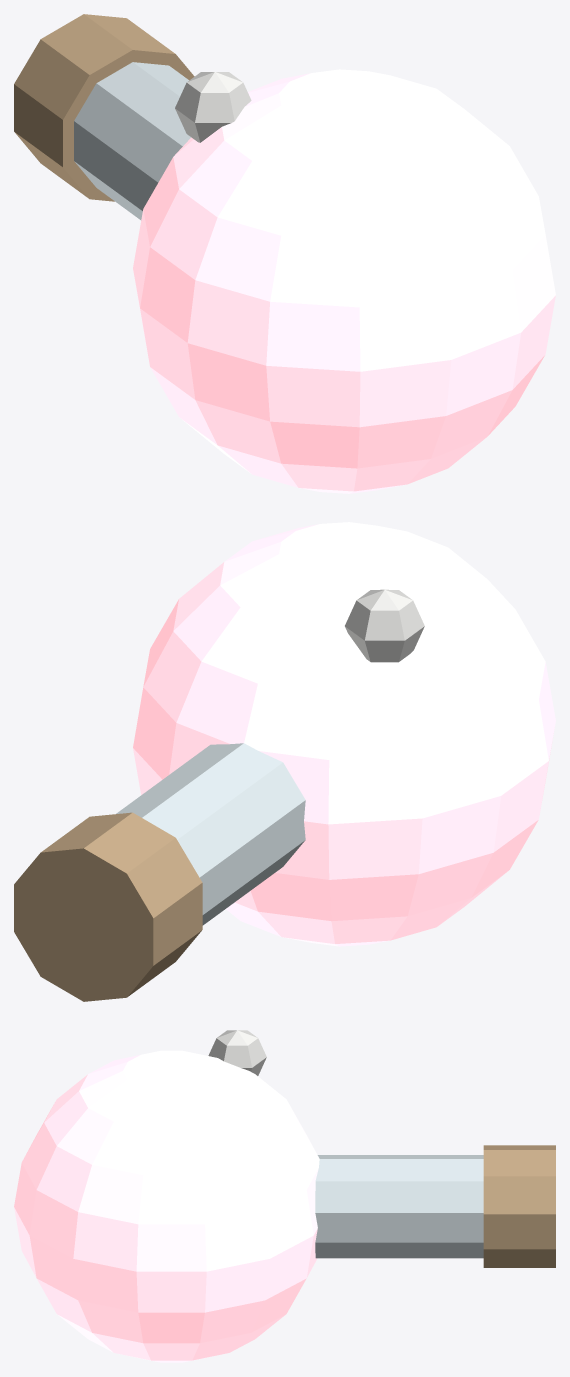
The model's file is mending_held.gltf.
The picture shows the model from 3 angles, top to bottom: view 1: azimuth 30°, elevation 25°; view 2: azimuth 150°, elevation 25°; view 3: azimuth 270°, elevation 25°; orthographic projection. The views are drawn at different scales.
Visible parts, largest first — view 1: alchemy_mending_held; view 2: alchemy_mending_held; view 3: alchemy_mending_held.
Boxes of the visible parts, x1,y1,x2,y2 form: alchemy_mending_held: [14, 14, 555, 493]; alchemy_mending_held: [14, 522, 555, 1001]; alchemy_mending_held: [14, 1030, 555, 1362].
Bounding box in the file's own units: 0.0936 × 0.097 × 0.165.
